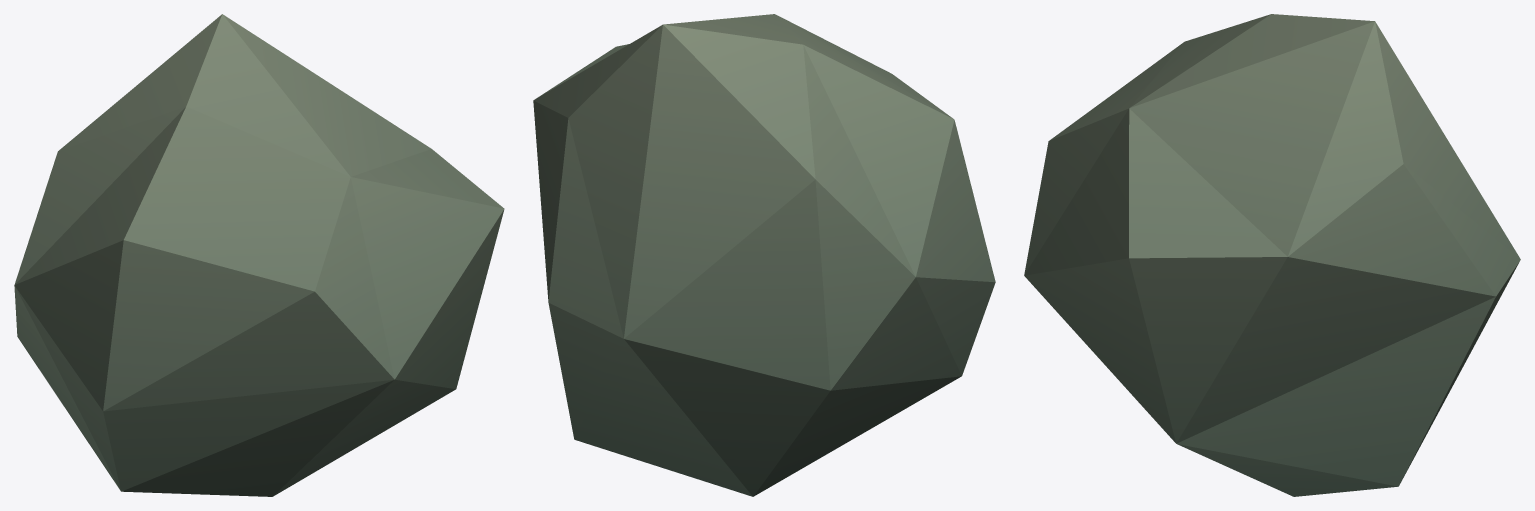
Rendered from Rock_Small_1.fbx.
The picture shows the model from 3 angles, left to right: view 1: azimuth 30°, elevation 25°; view 2: azimuth 150°, elevation 25°; view 3: azimuth 270°, elevation 25°; orthographic projection. The views are drawn at different scales.
Visible parts, largest first — view 1: Rock_Small_1; view 2: Rock_Small_1; view 3: Rock_Small_1.
Boxes of the visible parts, box(x1,y1,x2,y2) form: Rock_Small_1: box(14, 14, 504, 496); Rock_Small_1: box(533, 14, 995, 496); Rock_Small_1: box(1024, 14, 1520, 496).
Bounding box in the file's own units: 114 × 122 × 119.
